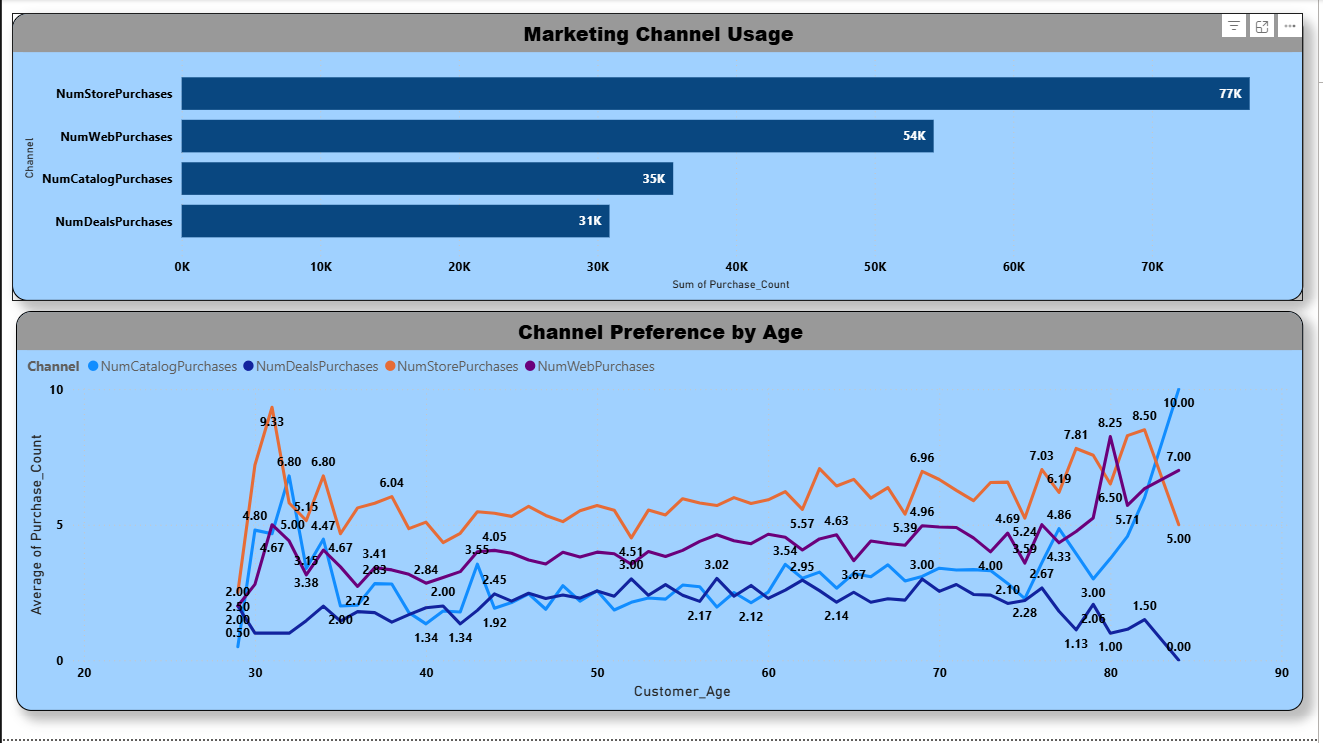

This screenshot's page, from the dashboard's own definition file:
{"tool":"powerbi","page":{"name":"Channel Performance","canvas":[1280,720],"ordinal":4},"visuals":[{"type":"barChart","title":"Marketing Channel Usage","fields":{"Category":["marketing_data.Channel"],"Y":["Sum(marketing_data.Purchase_Count)"]},"box":[9.7,13.6,1255.7,280.1],"z":0},{"type":"lineChart","title":"Channel Preference by Age","fields":{"Y":["Avg(marketing_data.Purchase_Count)"],"Category":["marketing_data.Customer_Age"],"Series":["marketing_data.Channel"]},"box":[13.6,303.5,1251.8,389.1],"z":1}]}

Visuals, with their boxes in screenshot pixels (x1, y1, x2, y2), scaled from the page's 1280x720 canvas onto the 1323x743 screenshot:
"Marketing Channel Usage" barChart: 10:14:1308:303
"Channel Preference by Age" lineChart: 14:313:1308:715
